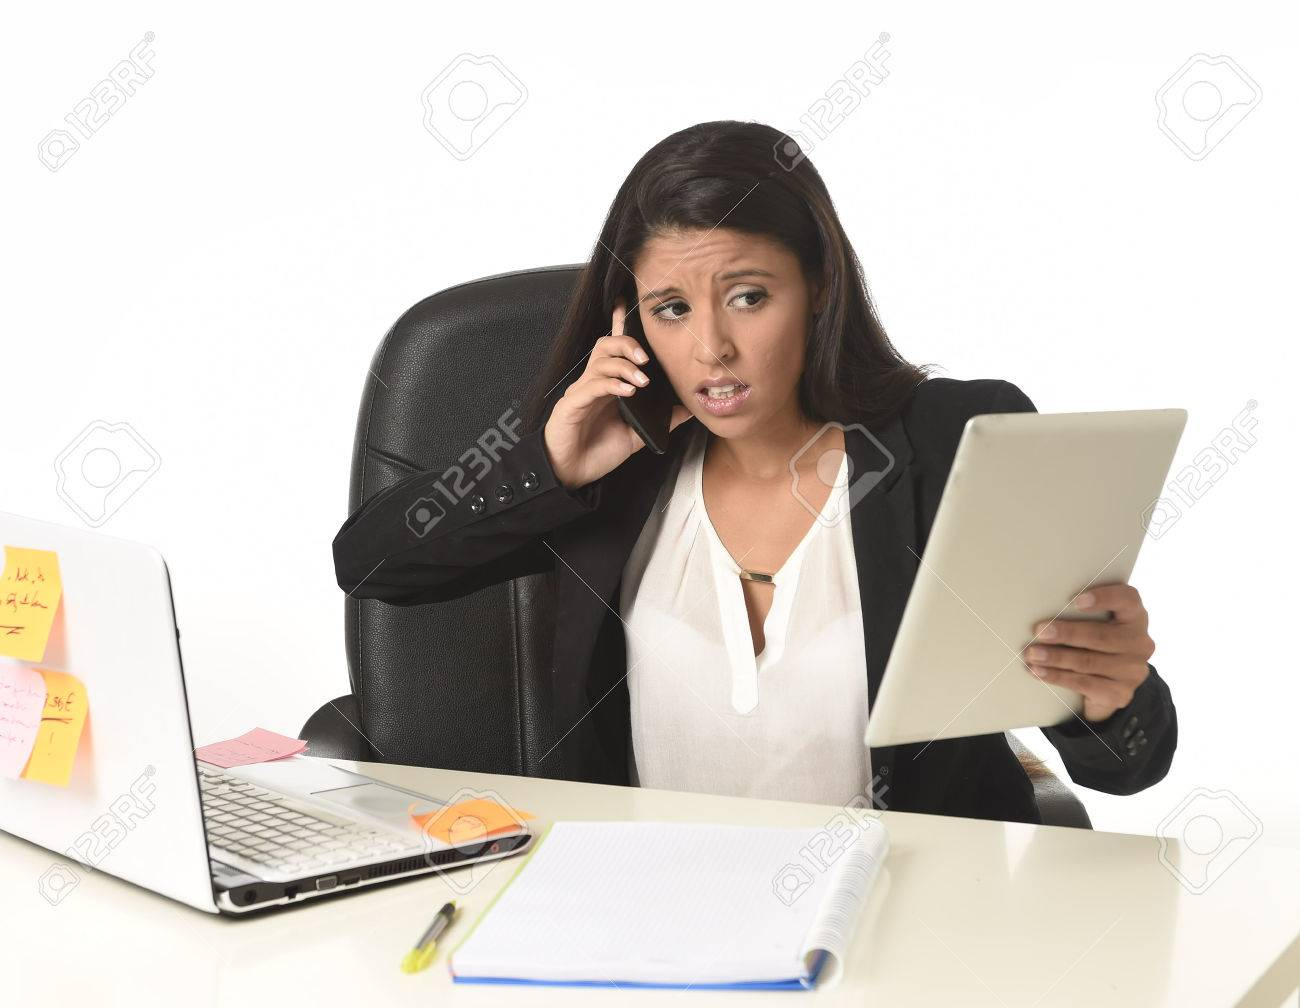phone: (577, 305, 662, 467)
talk: (544, 259, 794, 483)
